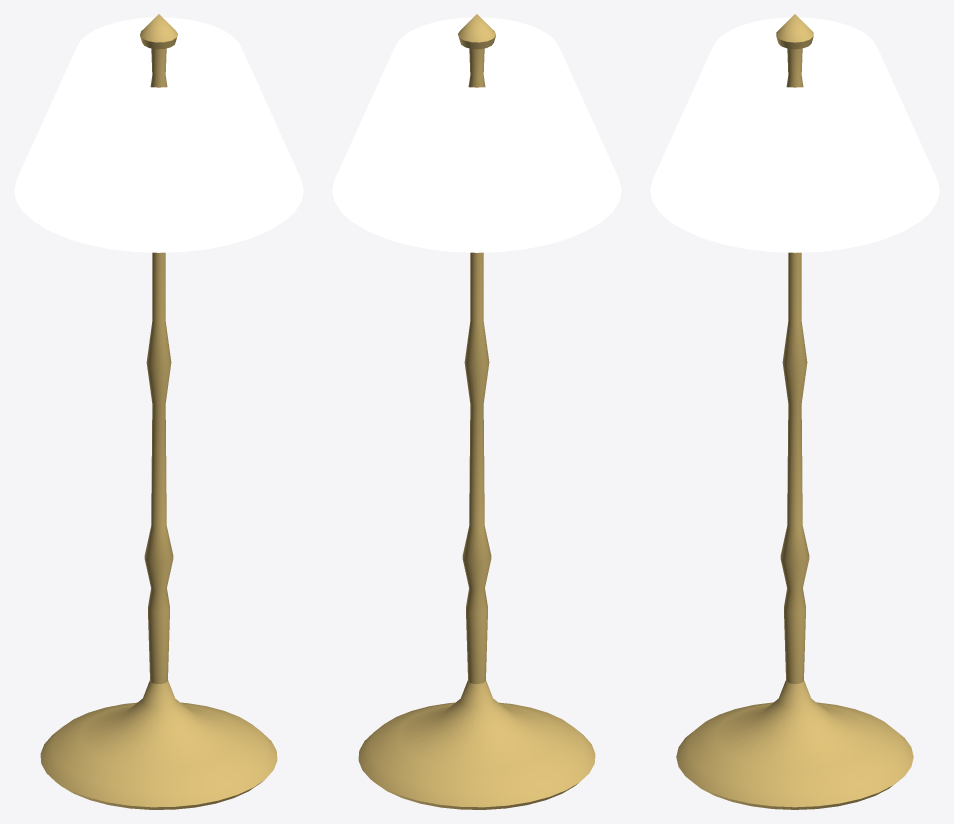
File: arr_lampada.fbx
3 renders of one model, left to right at view 1: azimuth 30°, elevation 25°; view 2: azimuth 150°, elevation 25°; view 3: azimuth 270°, elevation 25°, orthographic.
Parts seen in each view (by area): view 1: arr_lampada_paralume, arr_lampada_ottone; view 2: arr_lampada_paralume, arr_lampada_ottone; view 3: arr_lampada_paralume, arr_lampada_ottone.
Part boxes in pixels (<box>): arr_lampada_paralume: <box>14,17,303,252</box>; arr_lampada_ottone: <box>40,14,277,809</box>; arr_lampada_paralume: <box>332,17,621,252</box>; arr_lampada_ottone: <box>358,14,595,809</box>; arr_lampada_paralume: <box>650,17,939,252</box>; arr_lampada_ottone: <box>676,14,913,809</box>.
Bounding box in the file's own units: 0.512 × 1.46 × 0.512.
